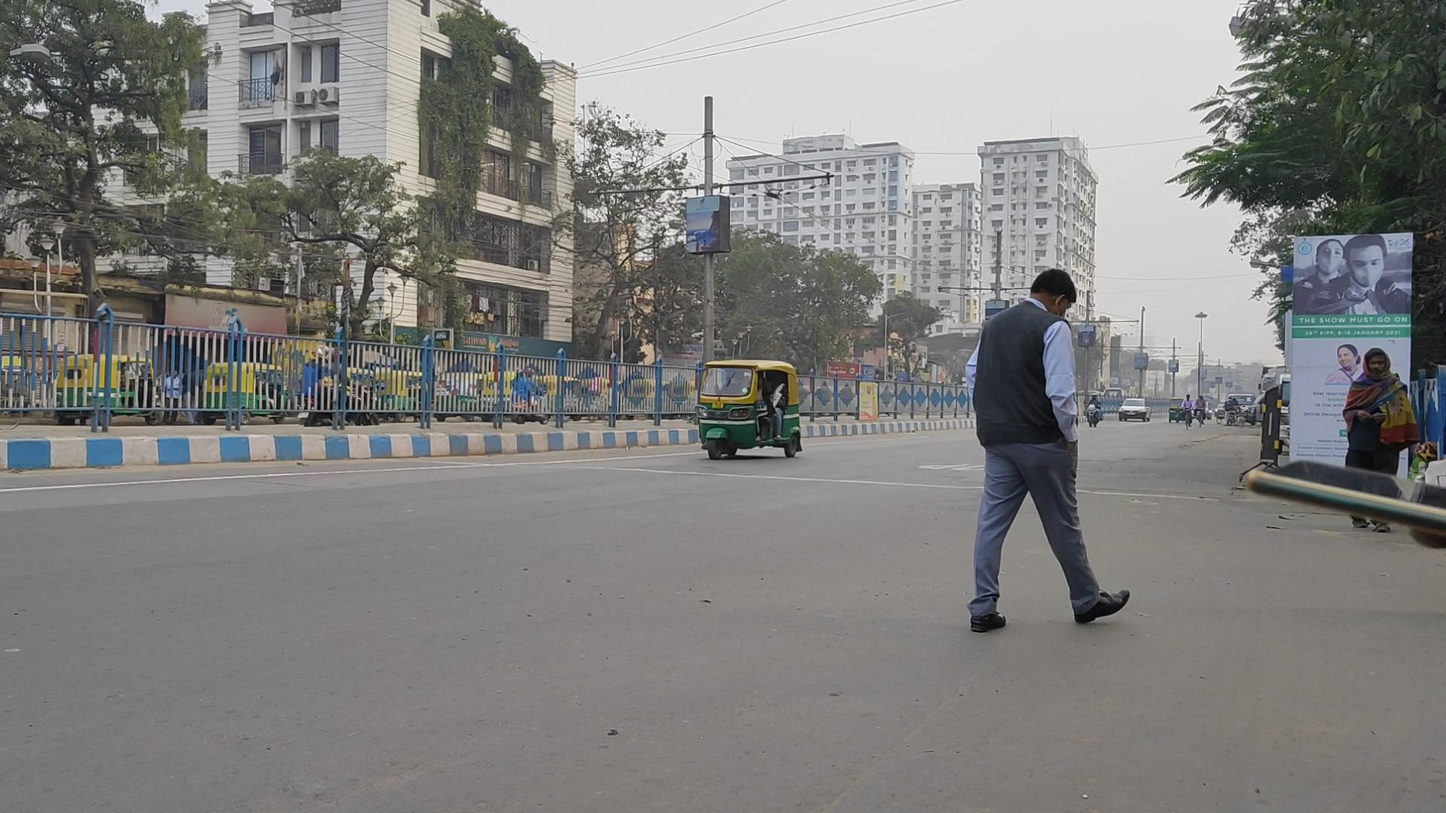Auto: (695, 359, 802, 460), (1168, 397, 1186, 424)
bike: (1084, 392, 1103, 428), (1181, 394, 1195, 430), (1193, 394, 1207, 428)
car: (1118, 397, 1152, 423)
